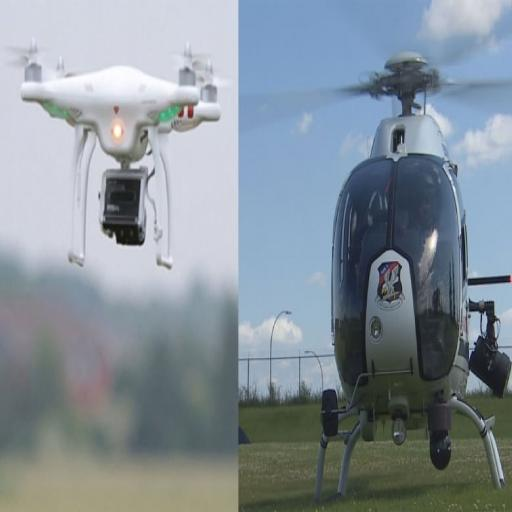helicopter: (259, 38, 509, 506)
